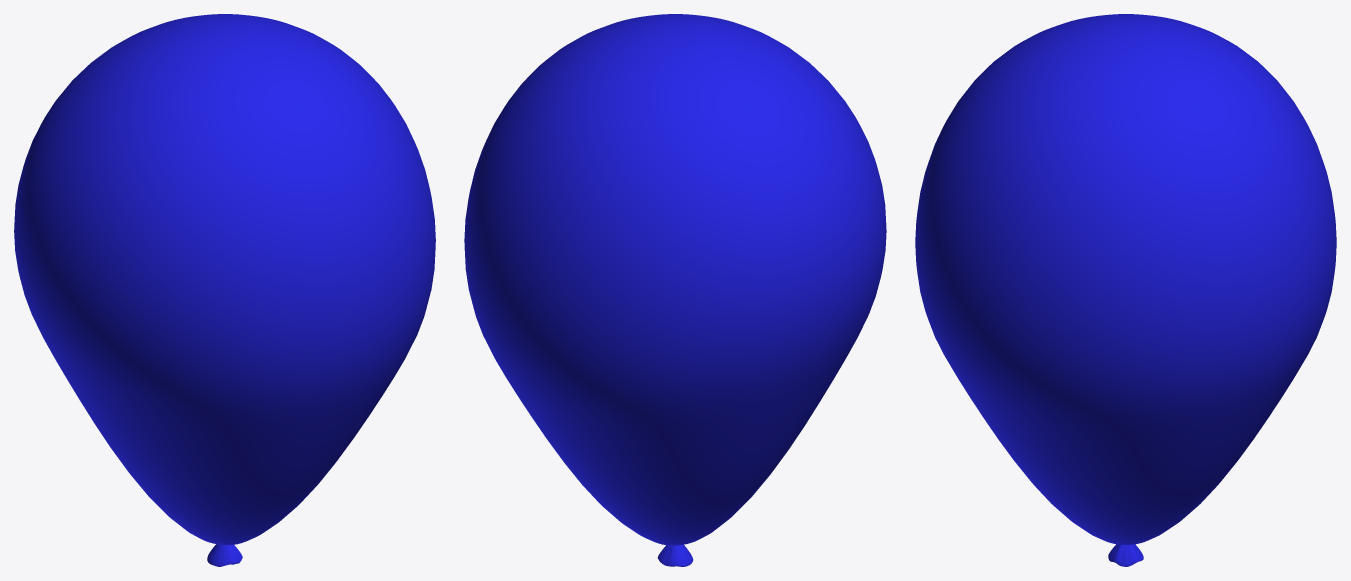
File: BalloonOhneSchnur_blau.fbx
3 renders of one model, left to right at view 1: azimuth 30°, elevation 25°; view 2: azimuth 150°, elevation 25°; view 3: azimuth 270°, elevation 25°, orthographic.
Parts seen in each view (by area): view 1: Sphere, Cone; view 2: Sphere, Cone; view 3: Sphere, Cone.
Boxes of the visible parts, left/top/right/bottom form: Sphere: left=14, top=14, right=435, bottom=545; Cone: left=207, top=544, right=242, bottom=566; Sphere: left=464, top=14, right=886, bottom=545; Cone: left=657, top=544, right=693, bottom=566; Sphere: left=915, top=14, right=1336, bottom=544; Cone: left=1108, top=544, right=1143, bottom=566.
Bounding box in the file's own units: 197 × 272 × 197.
